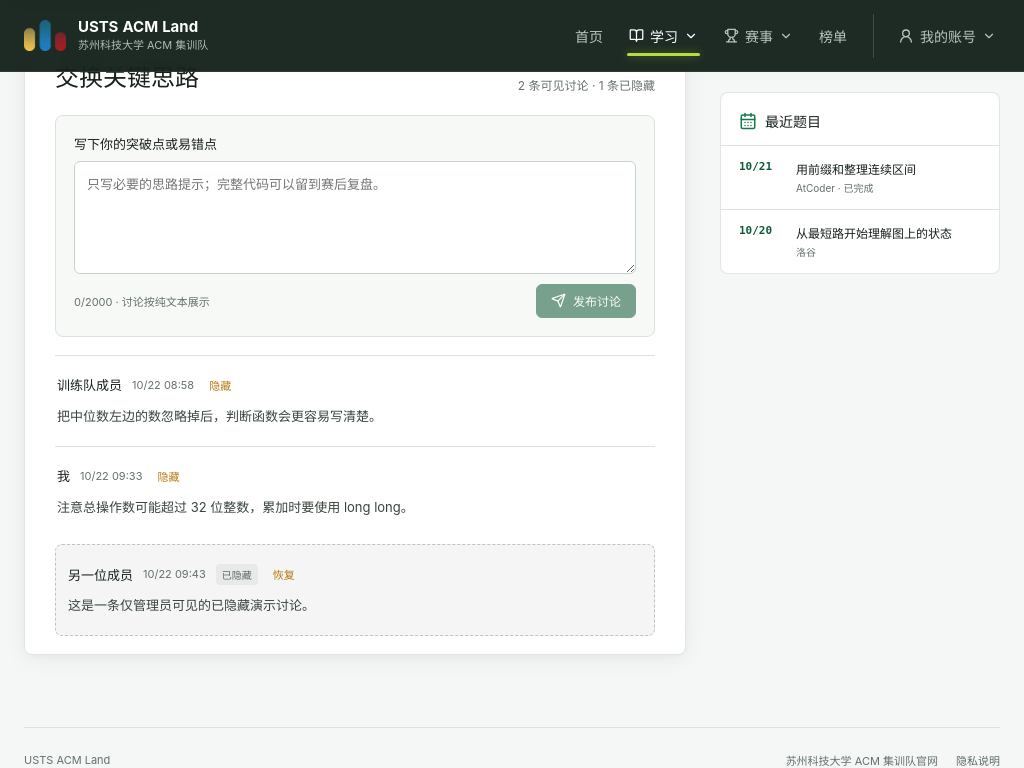
Test case: DailyProblemPage › lets an administrator hide another member discussion without deleting it
(page scrolled)
Expected: the list item "把中位数左边的数忽略掉后，判断函数会更容易写清楚。" is shown, [57,408,382,424]
Click the button "隐藏" next to "10/22 08:58" at point(220, 385), box [204,374,236,396]
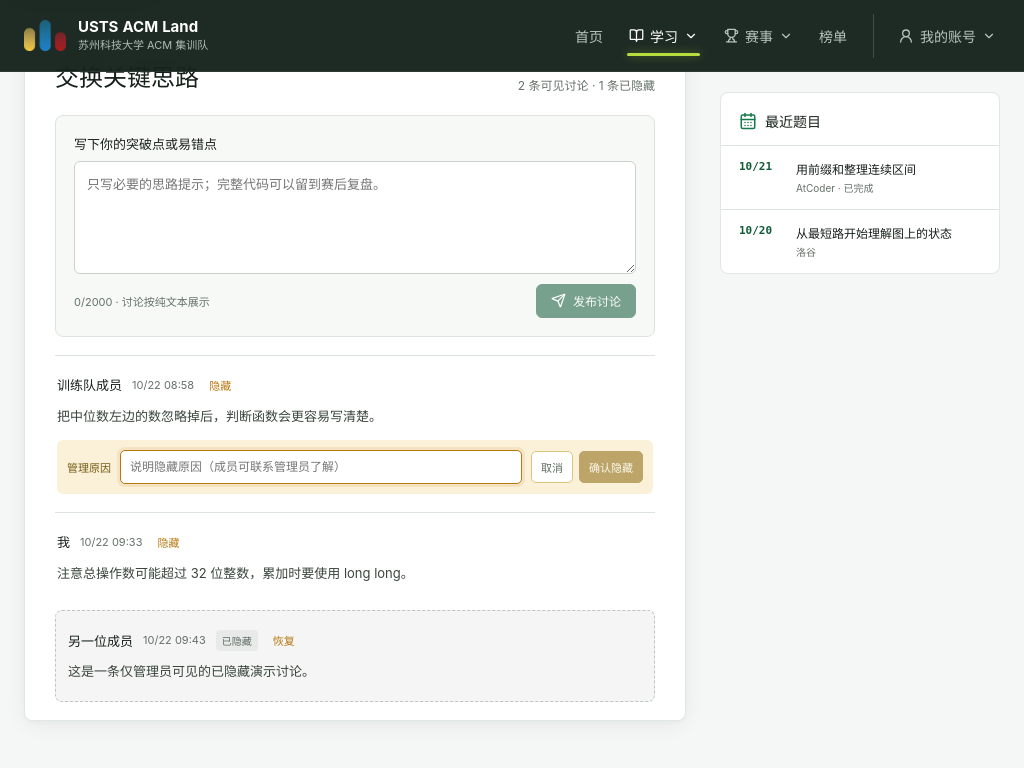
Type "包含过多题解细节。" into the field labelled "管理原因" at point(321, 467), box [120,450,522,484]
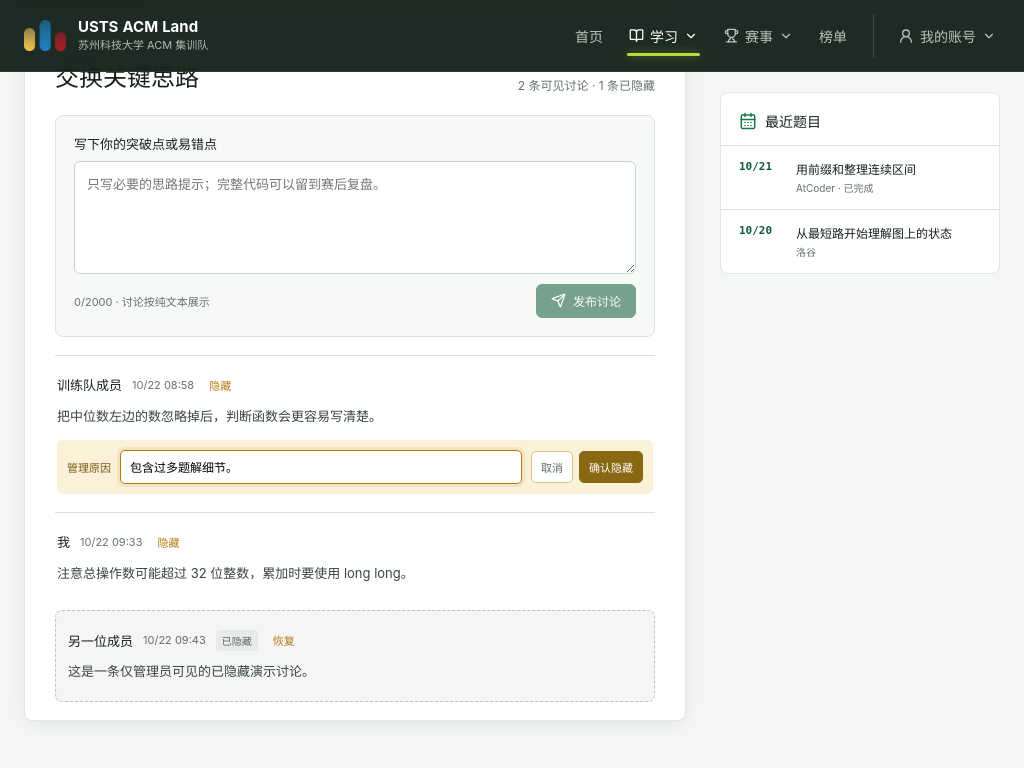
Click the button "确认隐藏" at point(611, 467), box [579,451,643,483]
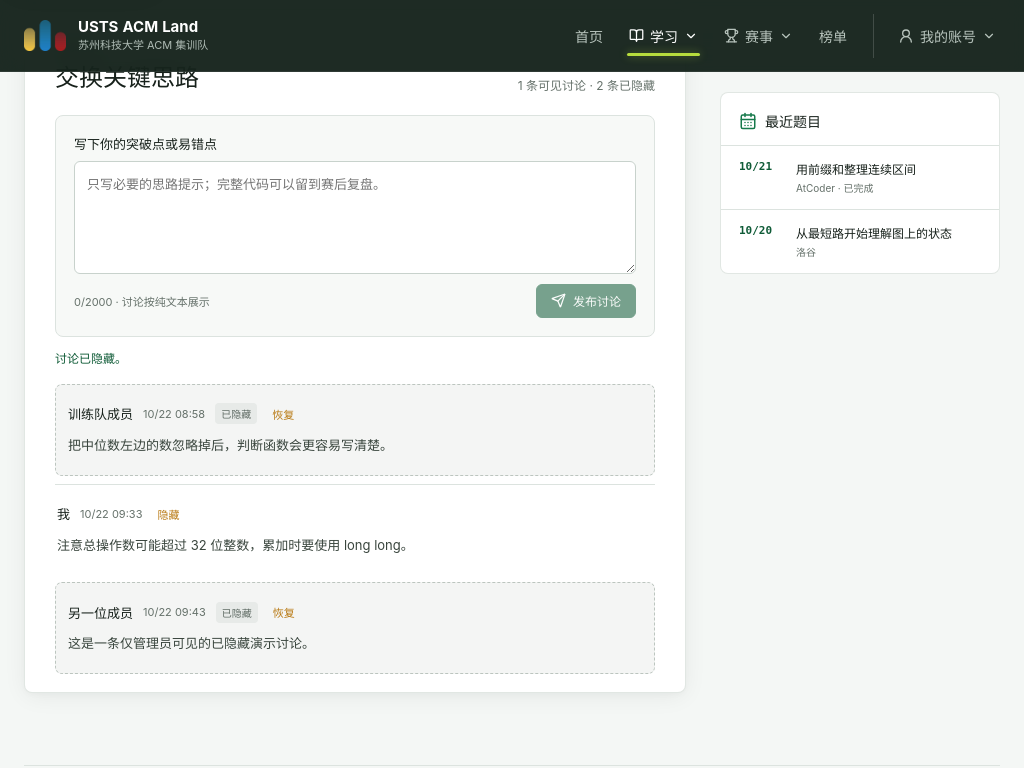
Expected: the text "把中位数左边的数忽略掉后，判断函数会更容易写清楚。" is shown, [68,437,393,453]
Expected: the text "已隐藏" next to "10/22 08:58" is shown, [221,408,251,420]
Expected: the text "讨论已隐藏。" is shown, [55,351,127,366]
